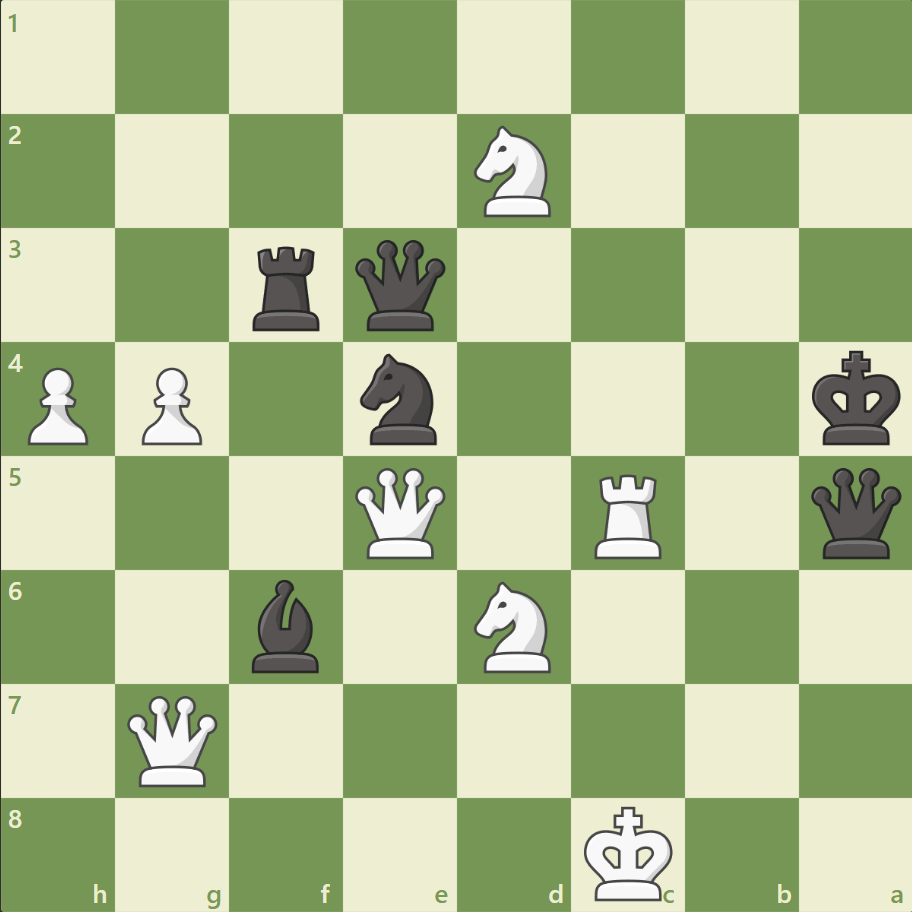K: (579, 798, 679, 906)
N: (465, 575, 562, 677), (465, 121, 562, 223)
P: (133, 359, 208, 450), (20, 359, 95, 450)
Q: (124, 690, 223, 789), (351, 463, 450, 562)
R: (587, 466, 670, 563)
b: (244, 574, 328, 676)
k: (806, 344, 906, 452)
n: (351, 348, 449, 450)
q: (805, 463, 904, 562), (351, 236, 450, 335)
r: (246, 239, 329, 336)
